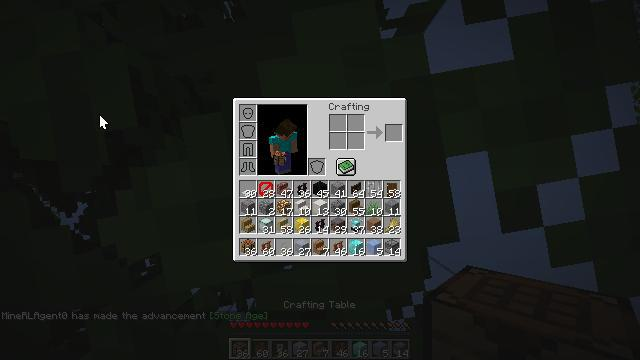cursor: (114, 99, 130, 109)
